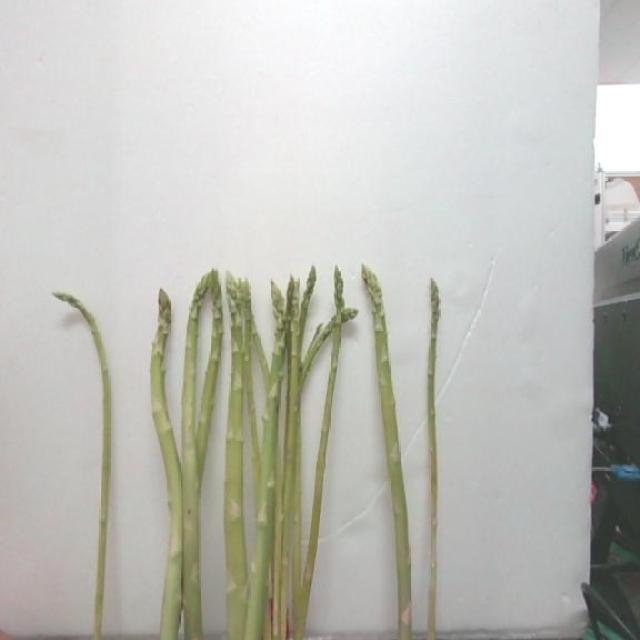aspargus: (359, 264, 434, 640)
